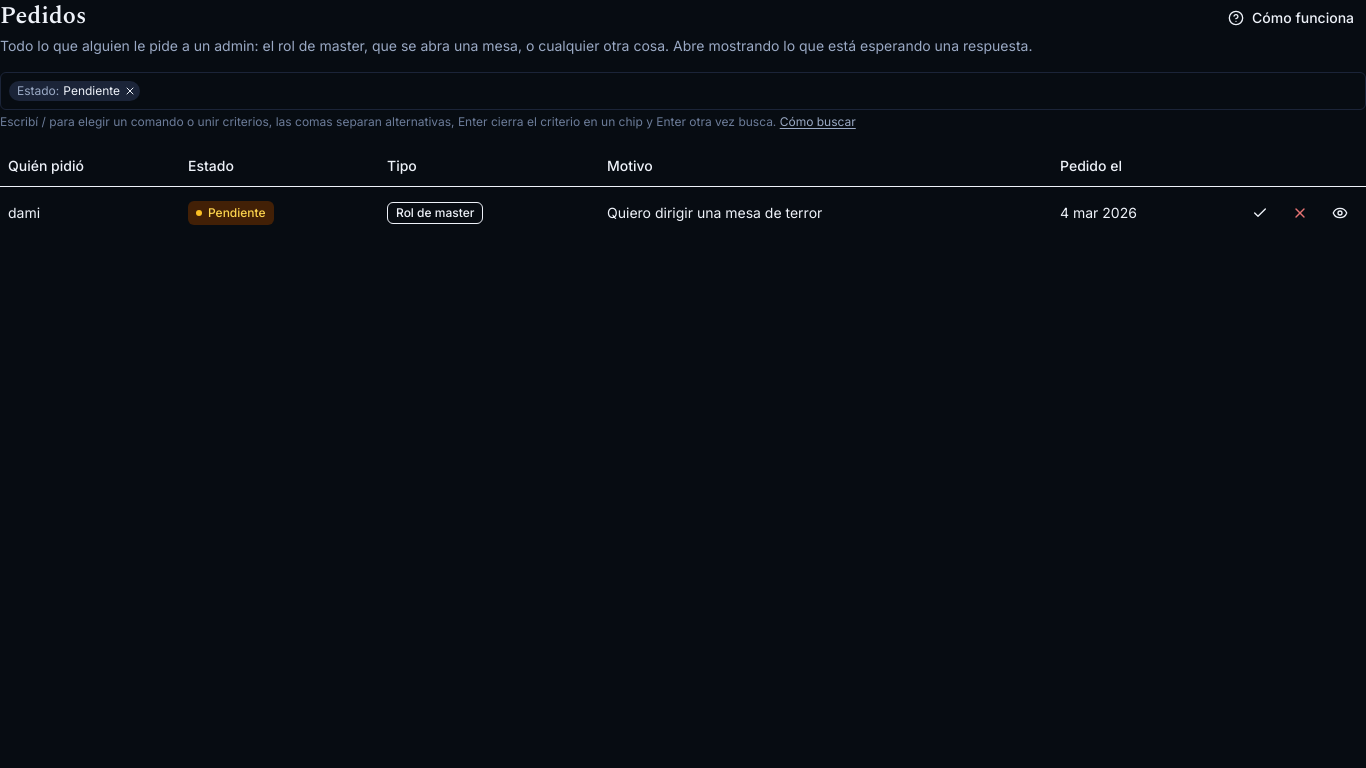
Scenario: AdminRequestsPage › offers the help of the tray from the screen itself
This screenshot has width=1366, height=768.
Click the button "Cómo funciona". click: (1291, 18)
box: [1216,0,1365,36]
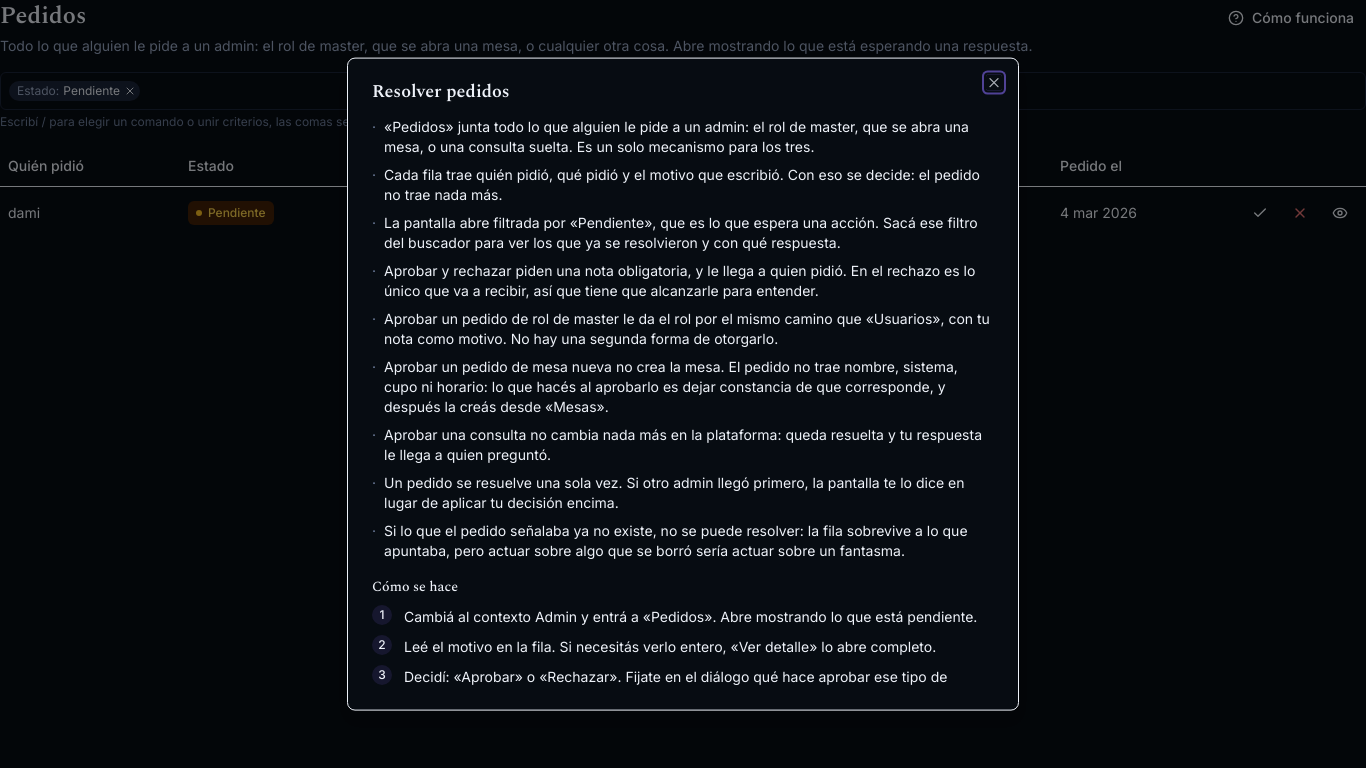
Expected: the text "no crea la mesa" is shown, [384,358,958,415]
